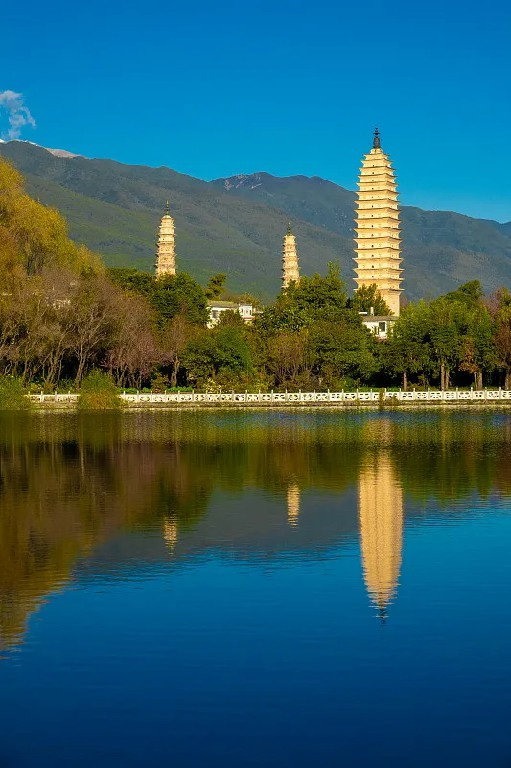ThreePagoda: (351, 127, 406, 316)
